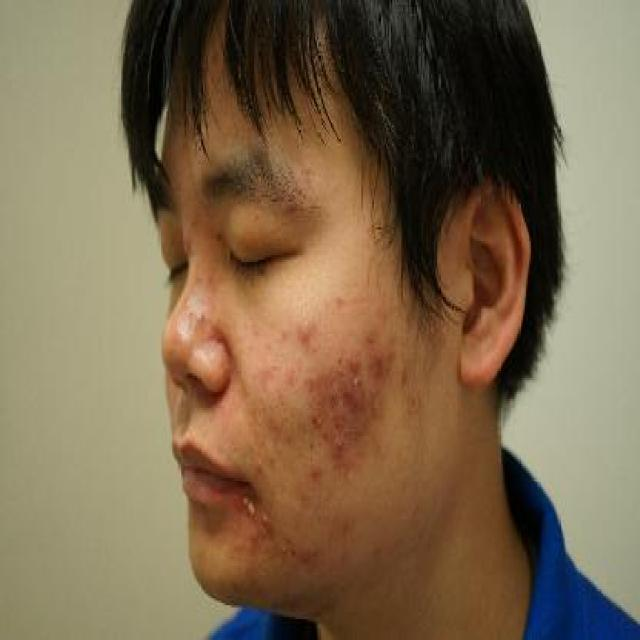papules: (308, 456, 326, 492), (352, 380, 368, 418), (366, 352, 385, 382), (338, 371, 352, 408), (297, 318, 314, 348), (346, 352, 363, 376), (309, 406, 325, 424)
pustules: (238, 492, 260, 520), (257, 508, 274, 531), (278, 540, 290, 561)
